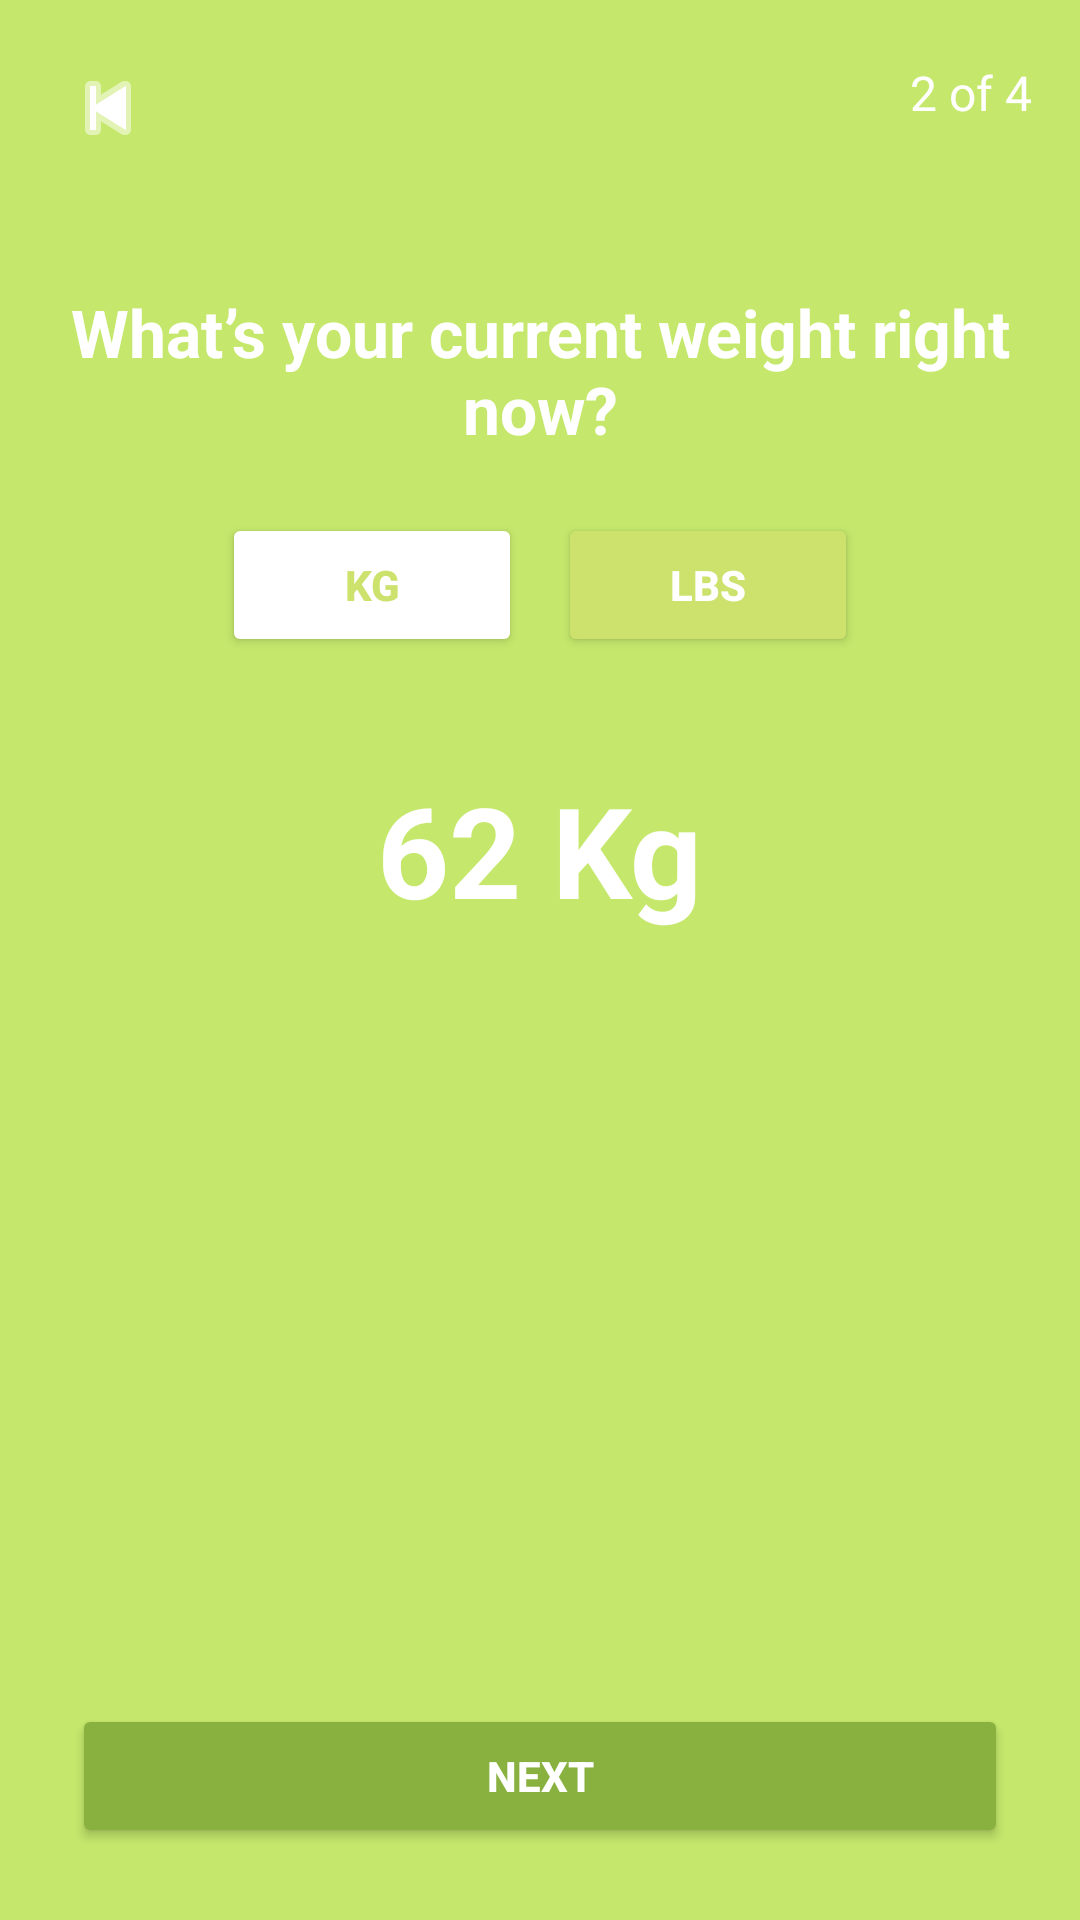

Named icons in this screenshot (1080*1920) and their centers, (x=x, y=y):
previous: (x=108, y=108)
